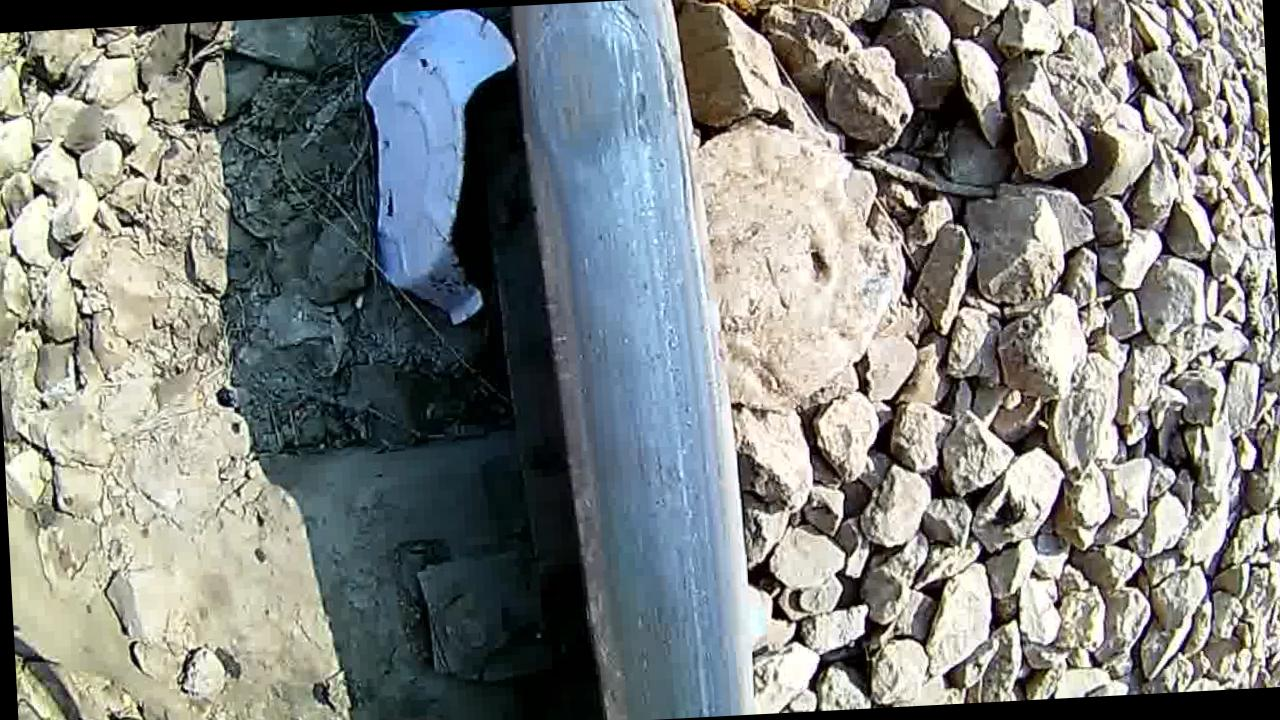bolt_missing: (469, 0, 706, 212)
